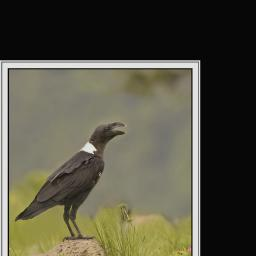Crow: (13, 121, 128, 242)
